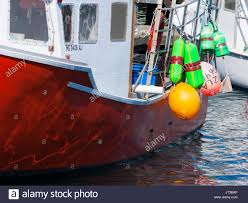buoy: (168, 82, 200, 120)
